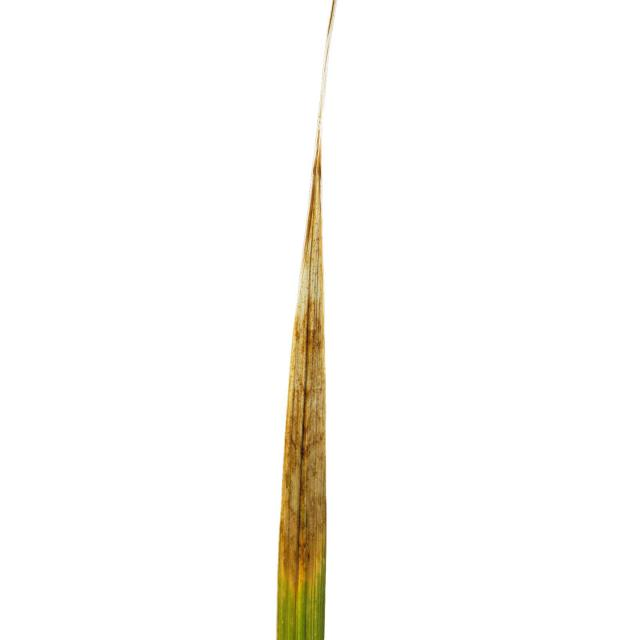Leaf scald: (200, 0, 430, 640)
